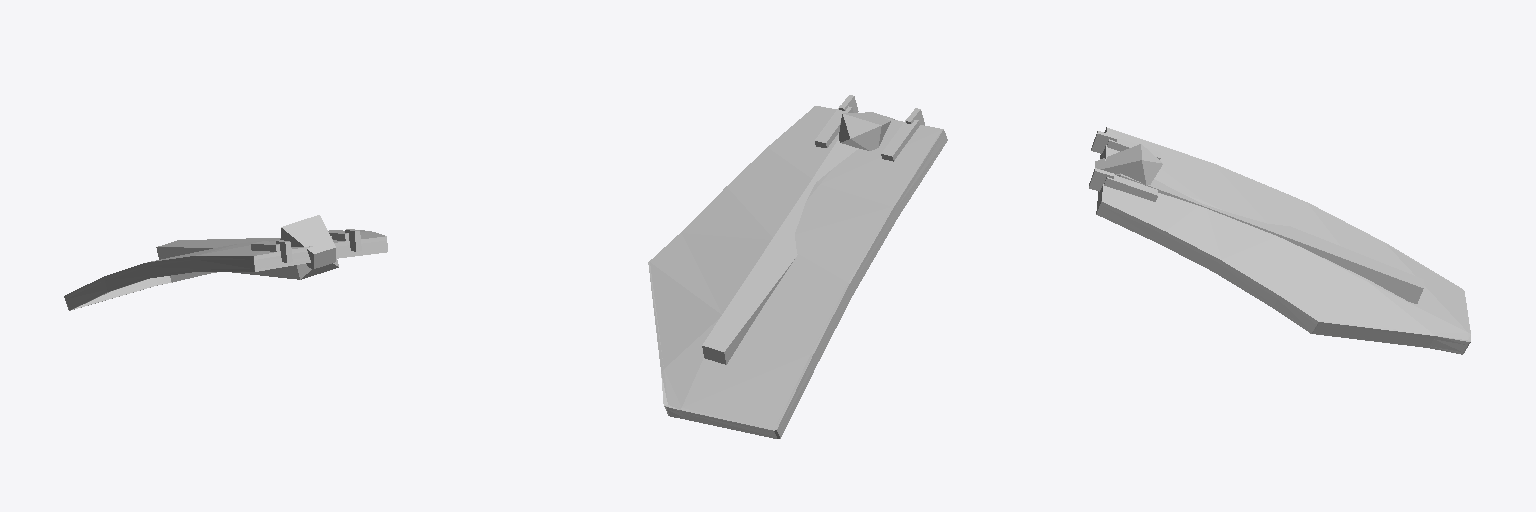
File: flyC.obj
The picture shows the model from 3 angles: view 1: azimuth 30°, elevation 25°; view 2: azimuth 150°, elevation 25°; view 3: azimuth 270°, elevation 25°; orthographic projection.
Parts seen in each view (by area): view 1: body:null_21, body:null_169, body:null_168; view 2: body:null_21, body:null_169, body:null_168; view 3: body:null_21, body:null_169, body:null_168.
Boxes of the visible parts, box(x1,y1,x2,y2) form: body:null_21: box(64, 229, 387, 310); body:null_169: box(156, 236, 338, 279); body:null_168: box(280, 215, 335, 268); body:null_21: box(648, 95, 947, 438); body:null_169: box(702, 139, 858, 364); body:null_168: box(839, 112, 894, 150); body:null_21: box(1089, 127, 1470, 354); body:null_169: box(1116, 173, 1423, 303); body:null_168: box(1095, 144, 1162, 185).
Size of the model in its own units: 1.14 by 1.04 by 1.89.